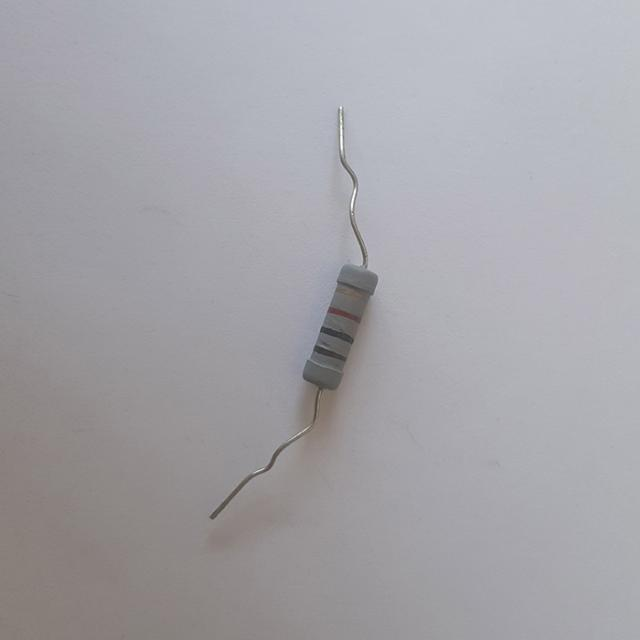black: (320, 324, 353, 341)
brown: (315, 343, 346, 360)
gold: (336, 283, 369, 298)
red: (327, 305, 360, 321)
resistor: (289, 254, 391, 400)
